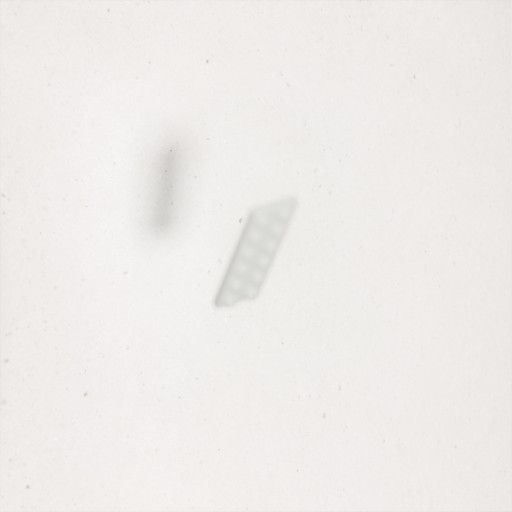lego: (211, 194, 300, 311)
